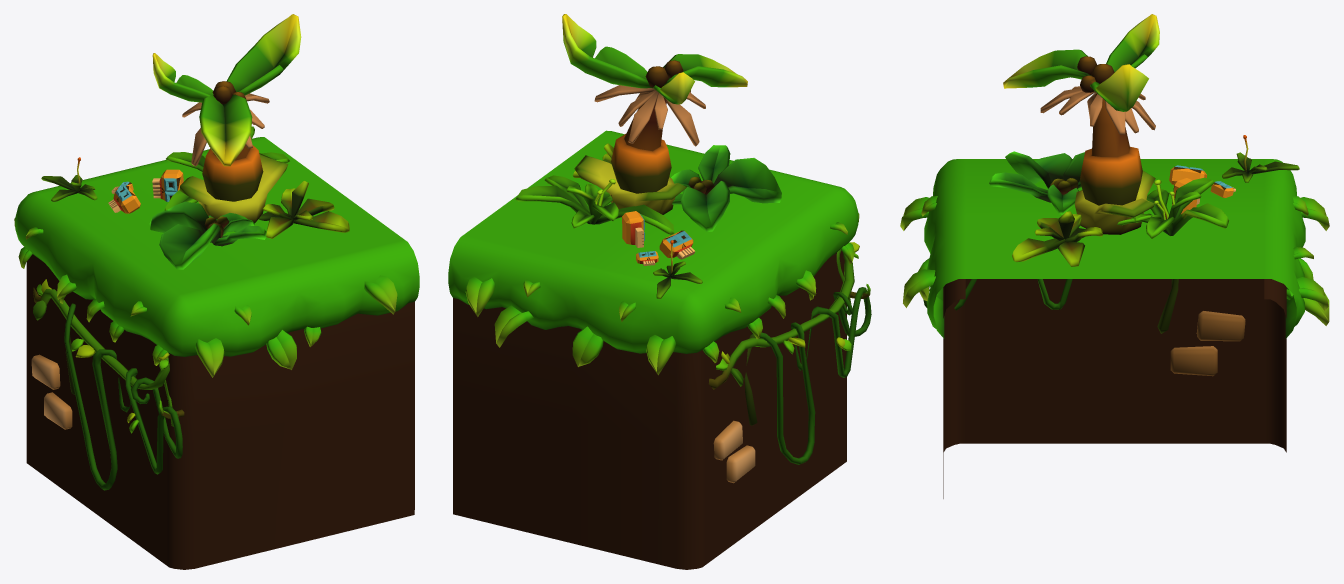
File: Island_04.fbx
3 renders of one model, left to right at view 1: azimuth 30°, elevation 25°; view 2: azimuth 150°, elevation 25°; view 3: azimuth 270°, elevation 25°, orthographic. The views are drawn at different scales.
Parts seen in each view (by area): view 1: Island_04; view 2: Island_04; view 3: Island_04.
Part boxes in pixels (x1,y1,x2,y2): Island_04: (14, 14, 419, 569); Island_04: (448, 14, 871, 569); Island_04: (900, 14, 1329, 498).
Bounding box in the file's own units: 4444 × 7177 × 5752.
